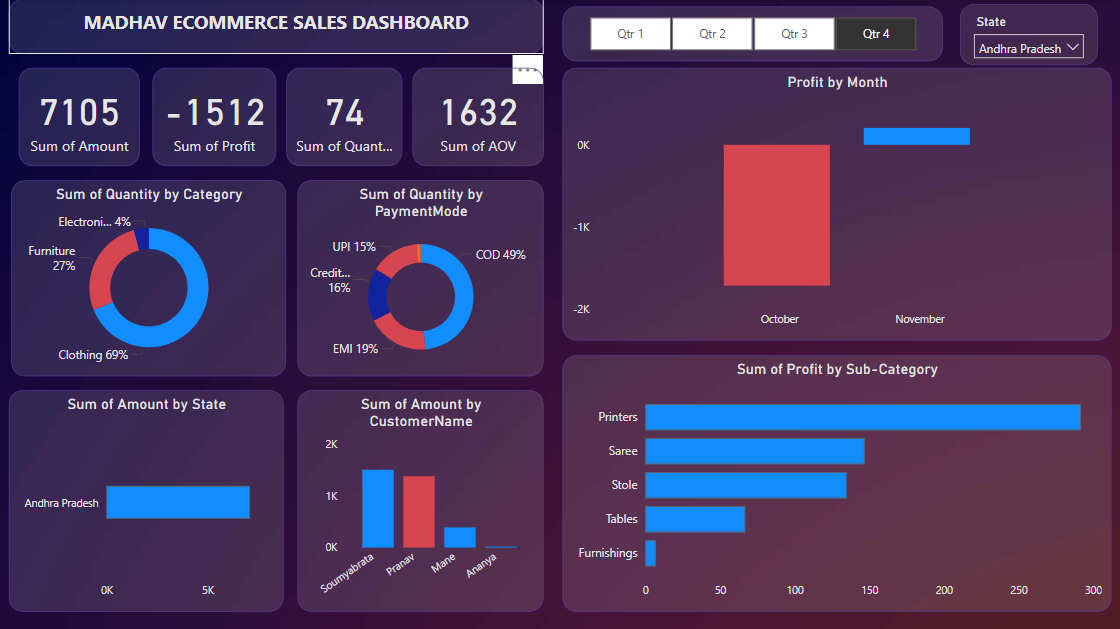

This screenshot's page, from the dashboard's own definition file:
{"tool":"powerbi","page":{"name":"Page 1","canvas":[1280,720],"ordinal":0},"visuals":[{"type":"textbox","box":[10,0,608.8,62.6],"z":0},{"type":"columnChart","title":"Profit by Month","fields":{"Y":["Details (2).Profit"],"Category":["Orders (2).Order Date.Variation.Date Hierarchy.Month"]},"box":[640.1,78.2,624.5,310.1],"z":1000},{"type":"barChart","fields":{"Category":["Details (2).Sub-Category"],"Y":["Details (2).Profit"]},"box":[640.1,405.4,624.5,291.6],"z":2000},{"type":"donutChart","fields":{"Category":["Details (2).Category"],"Y":["Details (2).Quantity"]},"box":[12.8,206.3,313,223.3],"z":3000},{"type":"donutChart","fields":{"Category":["Details (2).PaymentMode"],"Y":["Details (2).Quantity"]},"box":[338.6,206.3,280.2,223.3],"z":4000},{"type":"card","fields":{"Values":["Details (2).Amount"]},"box":[21.3,78.2,138,112.4],"z":5000},{"type":"card","fields":{"Values":["Details (2).Profit"]},"box":[173.6,78.2,140.8,112.4],"z":6000},{"type":"card","fields":{"Values":["Details (2).Quantity"]},"box":[325.8,78.2,132.3,112.4],"z":7000},{"type":"card","fields":{"Values":["Details (2).AOV"]},"box":[469.4,78.2,149.4,112.4],"z":8000},{"type":"barChart","fields":{"Category":["Orders (2).State"],"Y":["Details (2).Amount"]},"box":[10,445.3,313,251.8],"z":9000},{"type":"columnChart","fields":{"Category":["Orders (2).CustomerName"],"Y":["Details (2).Amount"]},"box":[338.6,445.3,280.2,251.8],"z":10000},{"type":"slicer","fields":{"Values":["Orders (2).Order Date.Variation.Date Hierarchy.Quarter"]},"box":[640.1,8.5,432.5,62.6],"z":11000},{"type":"slicer","fields":{"Values":["Orders (2).State"]},"box":[1092.5,5.7,156.5,69.7],"z":11001}]}

Visuals, with their boxes in screenshot pixels (x1, y1, x2, y2), scaled from the page's 1280x720 canvas onto the 1120x629 screenshot:
textbox: detection(9, 0, 541, 55)
"Profit by Month" columnChart: detection(560, 68, 1107, 339)
barChart - Details (2).Sub-Category x Details (2).Profit: detection(560, 354, 1107, 609)
donutChart - Details (2).Category x Details (2).Quantity: detection(11, 180, 285, 375)
donutChart - Details (2).PaymentMode x Details (2).Quantity: detection(296, 180, 541, 375)
card - Details (2).Amount: detection(19, 68, 139, 167)
card - Details (2).Profit: detection(152, 68, 275, 167)
card - Details (2).Quantity: detection(285, 68, 401, 167)
card - Details (2).AOV: detection(411, 68, 541, 167)
barChart - Orders (2).State x Details (2).Amount: detection(9, 389, 283, 609)
columnChart - Orders (2).CustomerName x Details (2).Amount: detection(296, 389, 541, 609)
slicer - Orders (2).Order Date.Variation.Date Hierarchy.Quarter: detection(560, 7, 939, 62)
slicer - Orders (2).State: detection(956, 5, 1093, 66)
